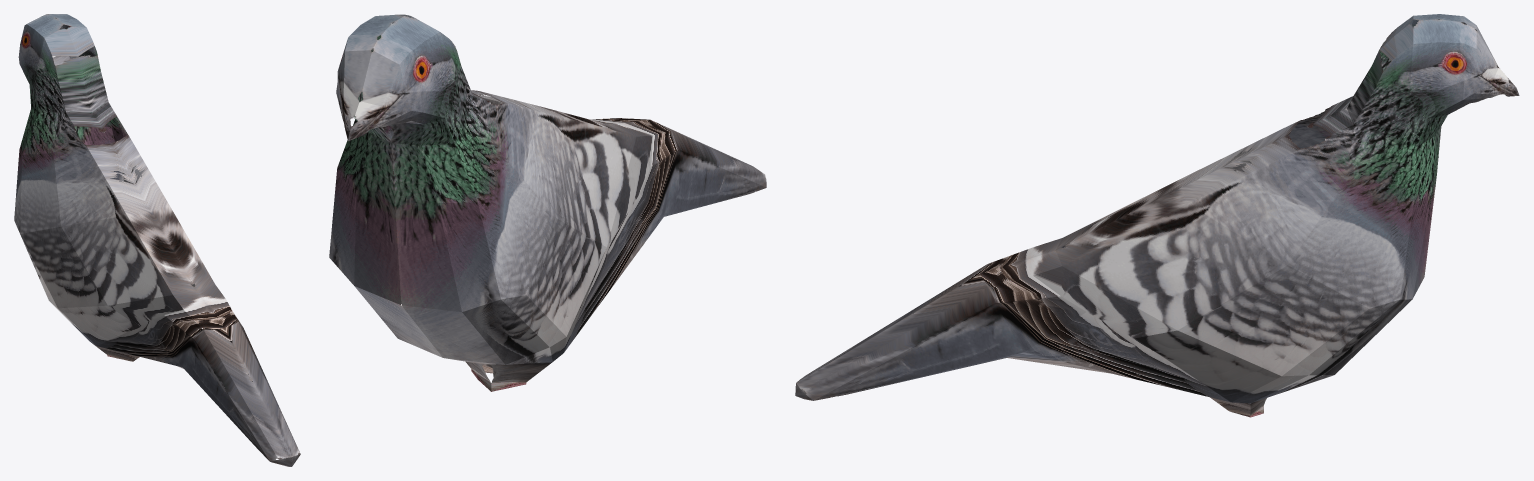
File: PigeonTextured.fbx
3 views of the same model, side by side, from view 1: azimuth 30°, elevation 25°; view 2: azimuth 150°, elevation 25°; view 3: azimuth 270°, elevation 25° (orthographic). The views are drawn at different scales.
Visible parts, largest first — view 1: Plane; view 2: Plane; view 3: Plane.
Boxes of the visible parts, x1,y1,x2,y2 form: Plane: (14, 14, 300, 466); Plane: (329, 14, 766, 391); Plane: (795, 14, 1519, 417).
Bounding box in the file's own units: 149 × 365 × 558.
